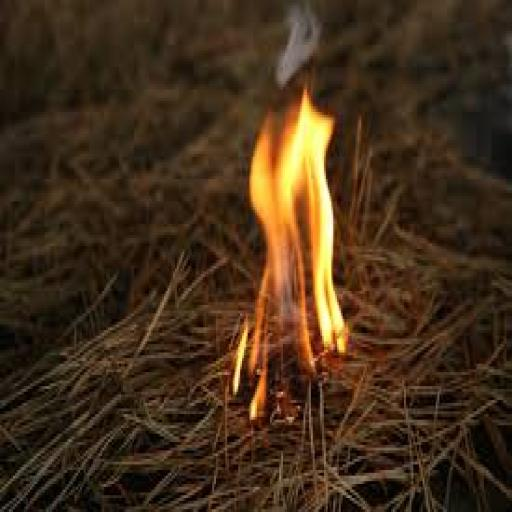fire: (212, 53, 372, 425)
